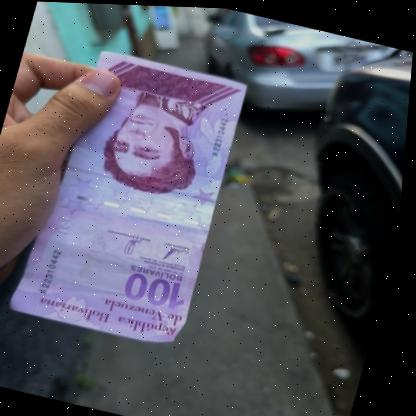one_hundred-front-vef: (10, 41, 255, 349)
